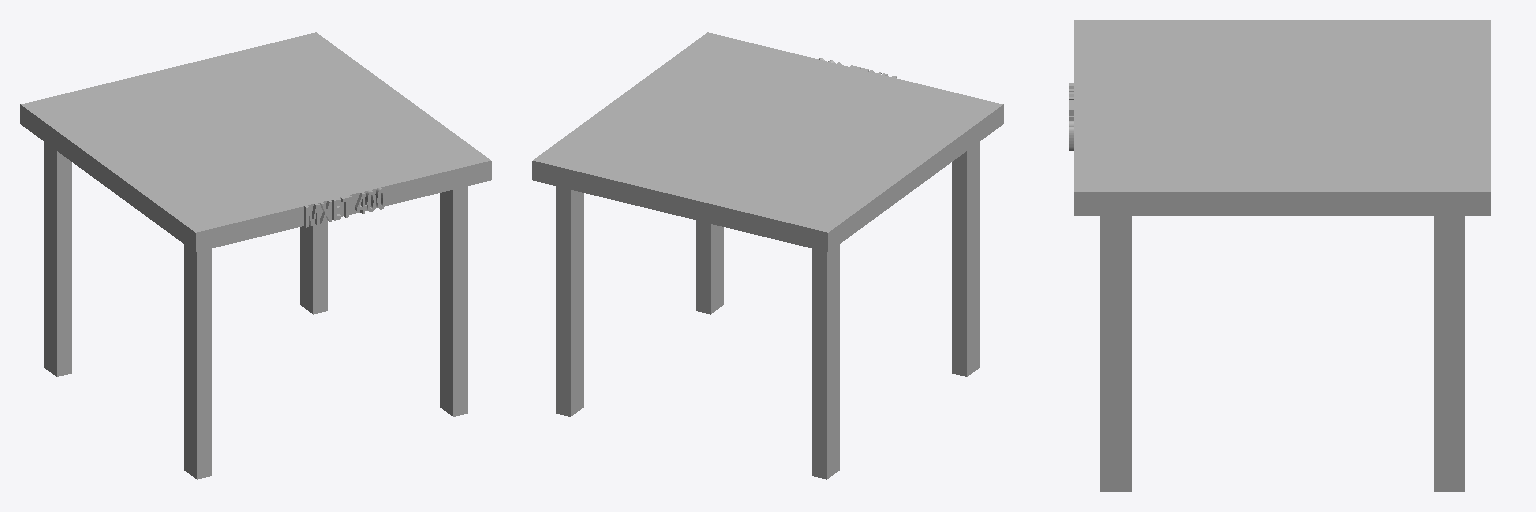
URDF robot description (ur5_stand_model2):
<?xml version="1.0" encoding="utf-8"?>
<!-- =================================================================================== -->
<!-- |    This document was autogenerated by xacro from ur5_stand.xacro                | -->
<!-- |    EDITING THIS FILE BY HAND IS NOT RECOMMENDED                                 | -->
<!-- =================================================================================== -->
<!-- <xacro:include filename="$(find labs_400)/urdf/materials.xacro" /> -->
<robot name="ur5_stand_model2">
  <material name="blue">
    <color rgba= "0 0 1 1"/>
  </material>
  <material name="grey">
    <color rgba="0.75 0.75 0.75 1"/>
  </material>

  <!-- ... -->


  <link name="world"/>
  <joint name="joint_fix" type="fixed">
    <parent link="world"/>
    <child link="table"/>
  </joint>
  <!-- Create a fixed joint with a parameterized name. -->
  <link name="table">
    <!--2-->
    <visual>
      <origin rpy="0 0 0" xyz="0 0 0"/>
      <geometry>
        <mesh filename="package://mxet_ros2_labs/meshes/lab6_meshes/mxet400_table.stl" scale="0.0013 0.002 0.002"/>
      </geometry>
      <material name="grey"/>
    </visual>
    <collision>
      <origin rpy="0 0 0" xyz="0 0 0"/>
      <geometry>
        <mesh filename="package://mxet_ros2_labs/meshes/lab6_meshes/mxet400_table.stl" scale="0.0013 0.002 0.002"/>
      </geometry>
      <surface>
        <friction>
          <ode>
            <mu>100</mu>
            <mu2>100</mu2>
        <fdir1>1 1 0</fdir1>
          </ode>
        </friction>
      </surface>
    </collision>
    <inertial>
      <origin rpy="1.570796 0 0" xyz="0 0 0"/>
      <mass value="300.0"/>
      <inertia ixx="7.5972" ixy="-1.394E-14" ixz="1.9328E-17" iyy="0.99673" iyz="-9.2056E-18" izz="8.1168" />
      <!-- <inertia ixx="0.001" ixy="0.0" ixz="0.0" iyy="0.001" iyz="0.0" izz="0.001"/> -->
    </inertial>
  </link>
  <gazebo reference="table">
    <!-- <material>Gazebo/Blue</material> -->
    <mu1>10</mu1>
    <mu2>10</mu2>
    <material>Gazebo/Wood</material>
  </gazebo>
</robot>

--- Facts derived from the render (not from the file) ---
Views: 3 orthographic renders of the robot side by side, from view 1: azimuth 30°, elevation 25°; view 2: azimuth 150°, elevation 25°; view 3: azimuth 270°, elevation 25°.
Robot: ur5_stand_model2 — 2 links, 1 joints (1 fixed); root link world; default pose: all joints at 0.
Visible links, largest first — view 1: table; view 2: table; view 3: table.
Link boxes in pixels (x1=…): table: x1=20, y1=32, x2=491, y2=479; table: x1=532, y1=32, x2=1003, y2=479; table: x1=1069, y1=20, x2=1490, y2=491.
Bounding box of the posed robot: 0.78 × 0.81 × 0.6506 m (x, y, z).
Meshes: 1 distinct files referenced, 1 mesh visuals loaded (1 binary STL).